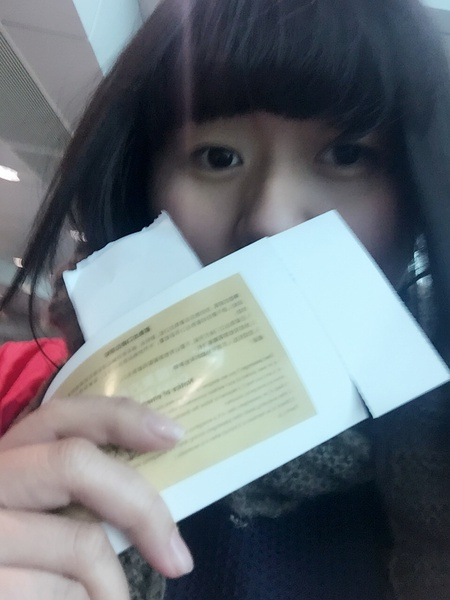face: (170, 25, 410, 405)
